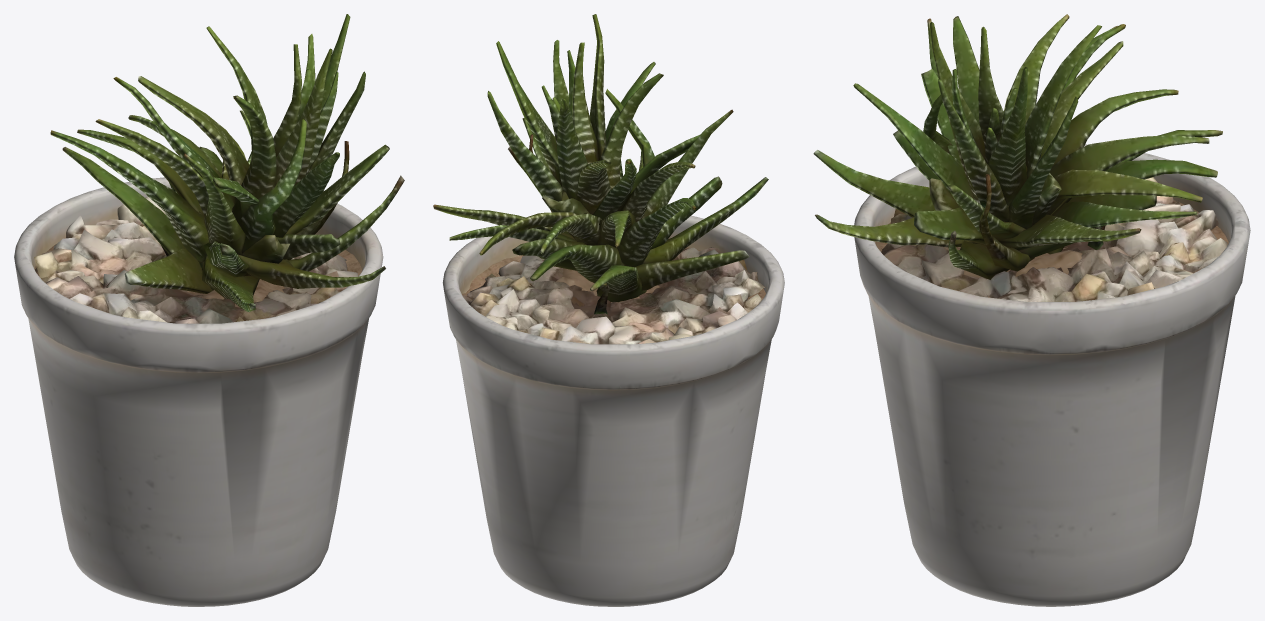
The model's file is potted_plant_04.glb.
3 renders of one model, left to right at view 1: azimuth 30°, elevation 25°; view 2: azimuth 150°, elevation 25°; view 3: azimuth 270°, elevation 25°, orthographic. The views are drawn at different scales.
Parts seen in each view (by area): view 1: potted_plant_04_ground; view 2: potted_plant_04_ground; view 3: potted_plant_04_ground.
Boxes of the visible parts, box(x1,y1,x2,y2) form: potted_plant_04_ground: box(14, 14, 404, 606); potted_plant_04_ground: box(433, 14, 784, 606); potted_plant_04_ground: box(813, 14, 1250, 606).
Bounding box in the file's own units: 0.1679 × 0.2675 × 0.1848.
Materials: 1 (1 with a texture image).
